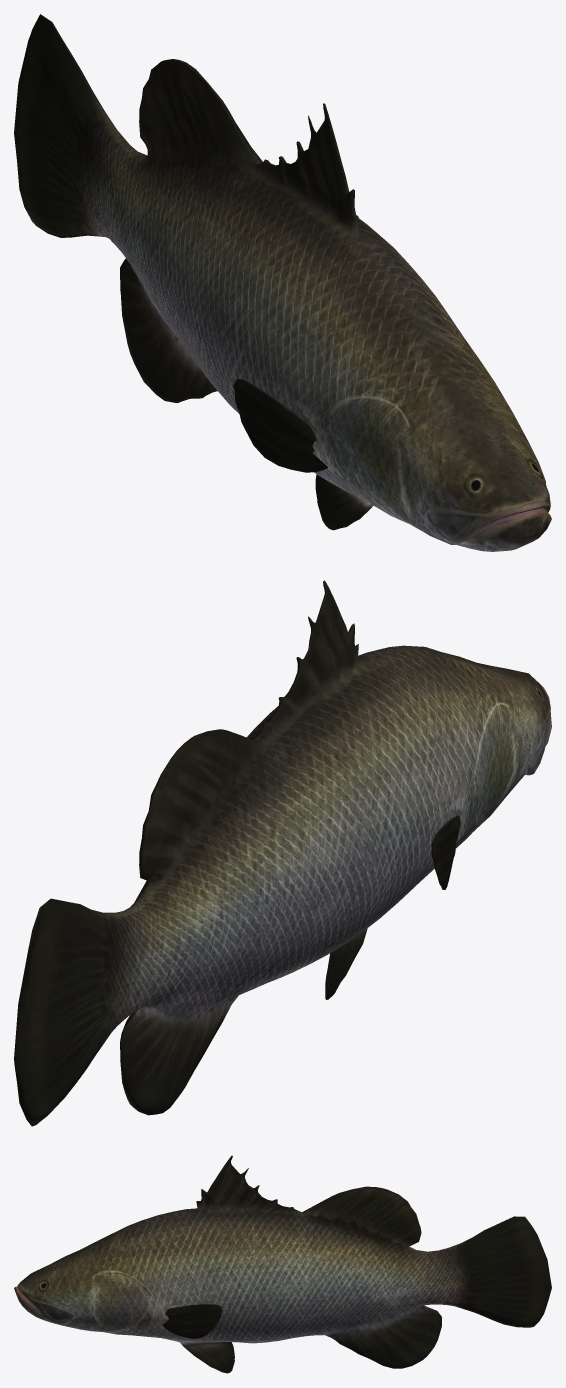
File: fish.glb
The picture shows the model from 3 angles, top to bottom: view 1: azimuth 30°, elevation 25°; view 2: azimuth 150°, elevation 25°; view 3: azimuth 270°, elevation 25°; orthographic projection. The views are drawn at different scales.
Parts seen in each view (by area): view 1: BarramundiFish; view 2: BarramundiFish; view 3: BarramundiFish.
Part boxes in pixels (x1=…): BarramundiFish: x1=14, y1=14, x2=551, y2=551; BarramundiFish: x1=14, y1=580, x2=551, y2=1126; BarramundiFish: x1=14, y1=1155, x2=551, y2=1373.
Size of the model in its own units: 0.1429 by 0.2875 by 0.6431.
Materials: 1 (1 with a texture image).
